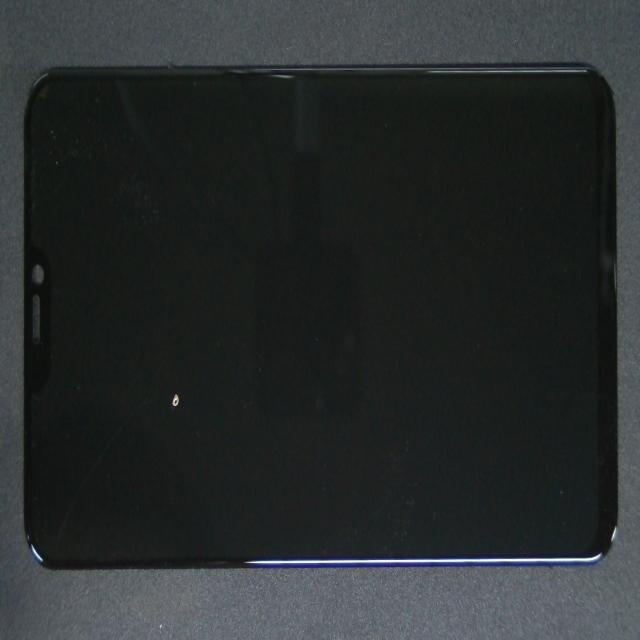stain: (121, 210, 293, 580)
